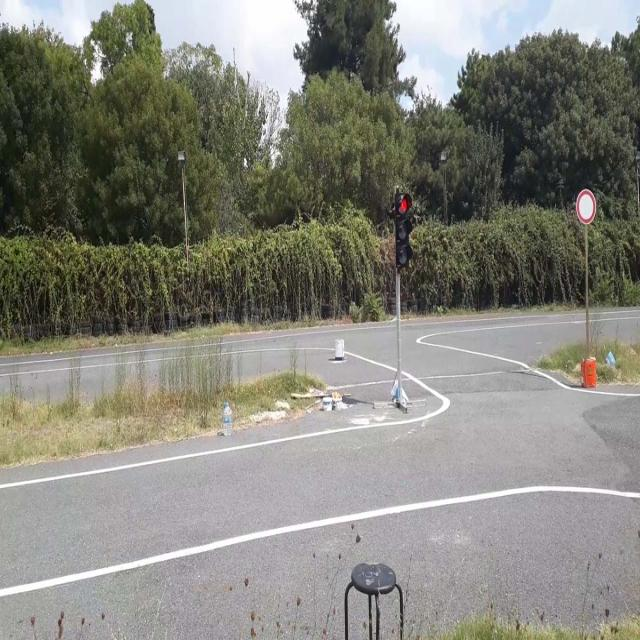kirmizi: (396, 193, 412, 267)
